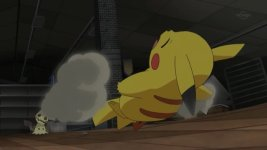pikachu: (87, 27, 252, 141)
